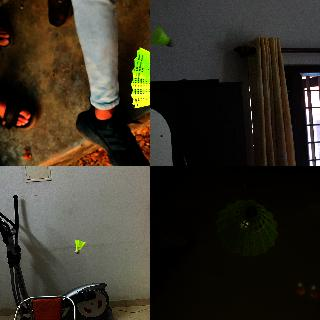shuttlecock: (215, 200, 277, 256), (130, 46, 149, 109), (151, 28, 173, 46), (75, 239, 85, 253)
